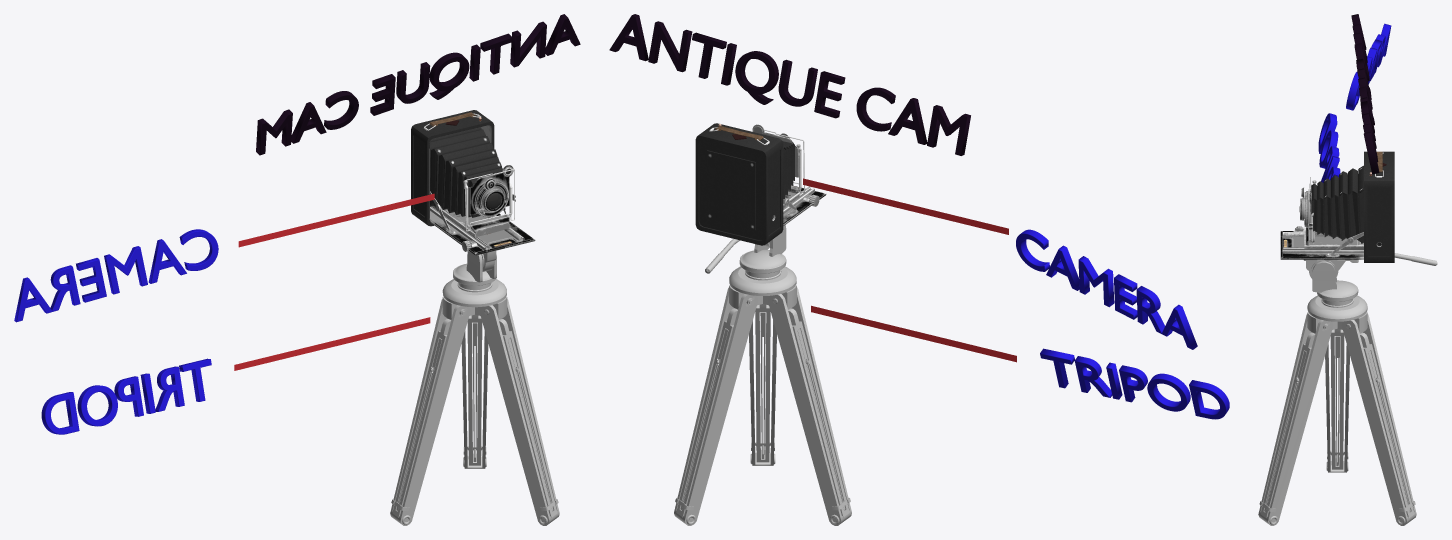
File: finalcam1.gltf
The picture shows the model from 3 angles, left to right: view 1: azimuth 30°, elevation 25°; view 2: azimuth 150°, elevation 25°; view 3: azimuth 270°, elevation 25°; orthographic projection. The views are drawn at different scales.
Visible parts, largest first — view 1: tripod, camera, Text.002, Text, Text.001, NurbsPath, NurbsPath.001; view 2: tripod, camera, Text.002, Text, Text.001, NurbsPath.001, NurbsPath; view 3: tripod, camera, Text.002, Text.001, Text.
Boxes of the visible parts, x1,y1,x2,y2 form: tripod: (390,250,559,525); camera: (411,110,535,255); Text.002: (256,14,580,155); Text: (14,229,218,322); Text.001: (41,358,211,434); NurbsPath: (238,193,434,247); NurbsPath.001: (234,317,430,370); tripod: (674,225,851,525); camera: (695,123,826,245); Text.002: (609,14,970,155); Text: (1016,229,1197,349); Text.001: (1040,348,1229,419); NurbsPath.001: (811,305,1016,362); NurbsPath: (803,178,1008,234); tripod: (1258,253,1437,525); camera: (1280,151,1394,262); Text.002: (1351,14,1379,174); Text.001: (1318,113,1340,182); Text: (1346,23,1391,110).
Size of the model in its own units: 11.46 by 8.8 by 3.39.
